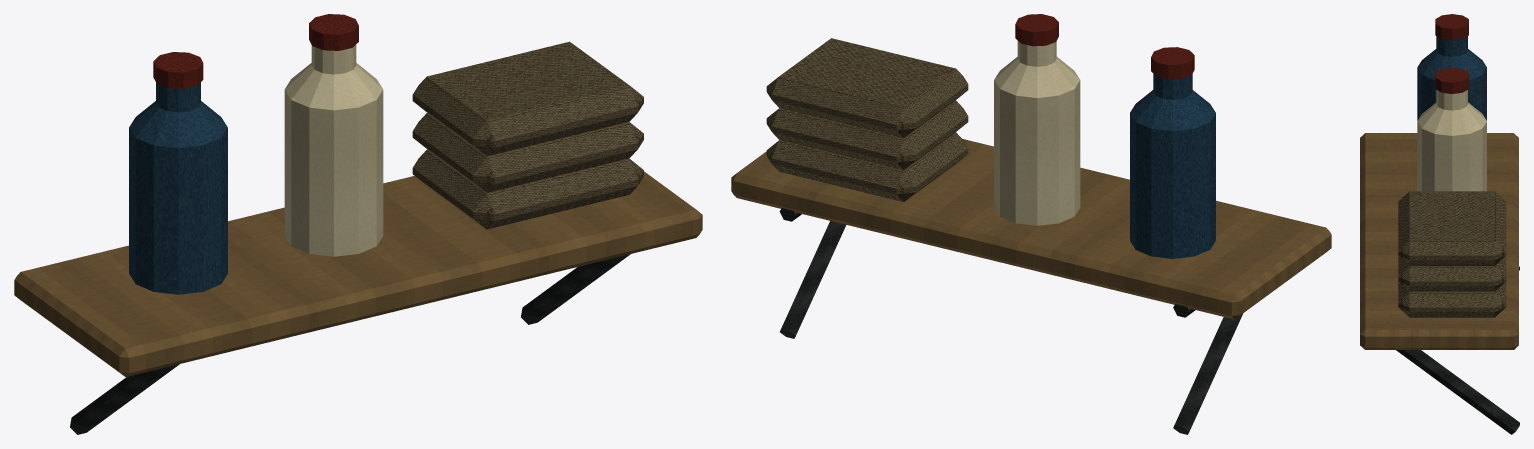
The model's file is level_laundry_shelf.glb.
3 renders of one model, left to right at view 1: azimuth 30°, elevation 25°; view 2: azimuth 150°, elevation 25°; view 3: azimuth 270°, elevation 25°, orthographic. The views are drawn at different scales.
Parts seen in each view (by area): view 1: level_laundry_shelf; view 2: level_laundry_shelf; view 3: level_laundry_shelf.
Boxes of the visible parts, bbox=[...] form: level_laundry_shelf: bbox=[14, 14, 702, 434]; level_laundry_shelf: bbox=[731, 14, 1331, 434]; level_laundry_shelf: bbox=[1360, 14, 1519, 434].
Bounding box in the file's own units: 0.75 × 0.4781 × 0.2515.
Materials: 6 (6 with a texture image).
